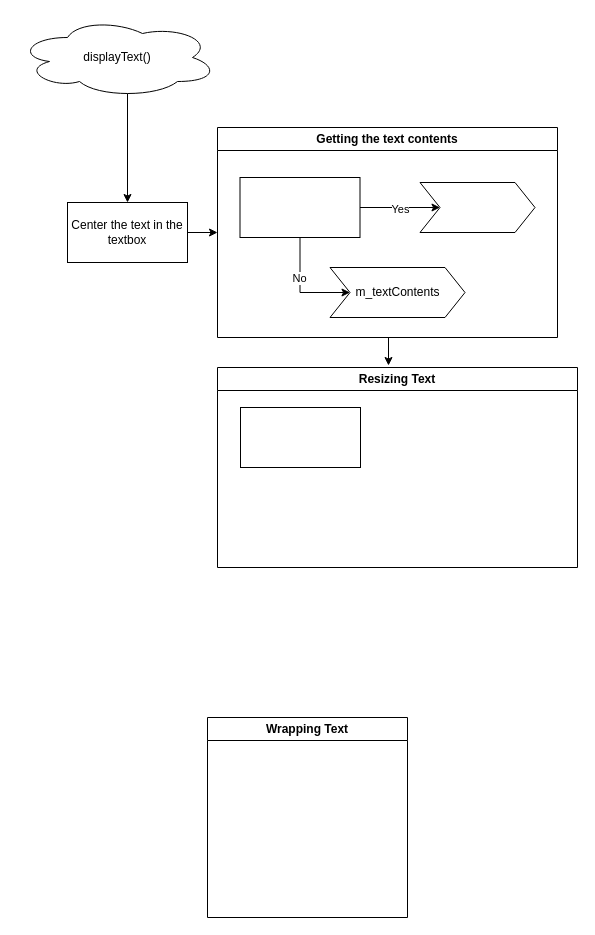
The diagram is 595 pixels wide and 935 high, and some of its shapes have lost their labels. Here are the shapes that lost their labels. From the top down, the centre of each, then its label:
At point 299,207: "m_textContents empty?".
At point 477,207: "Placeholder Text".
At point 300,437: "text out of bounds?".
